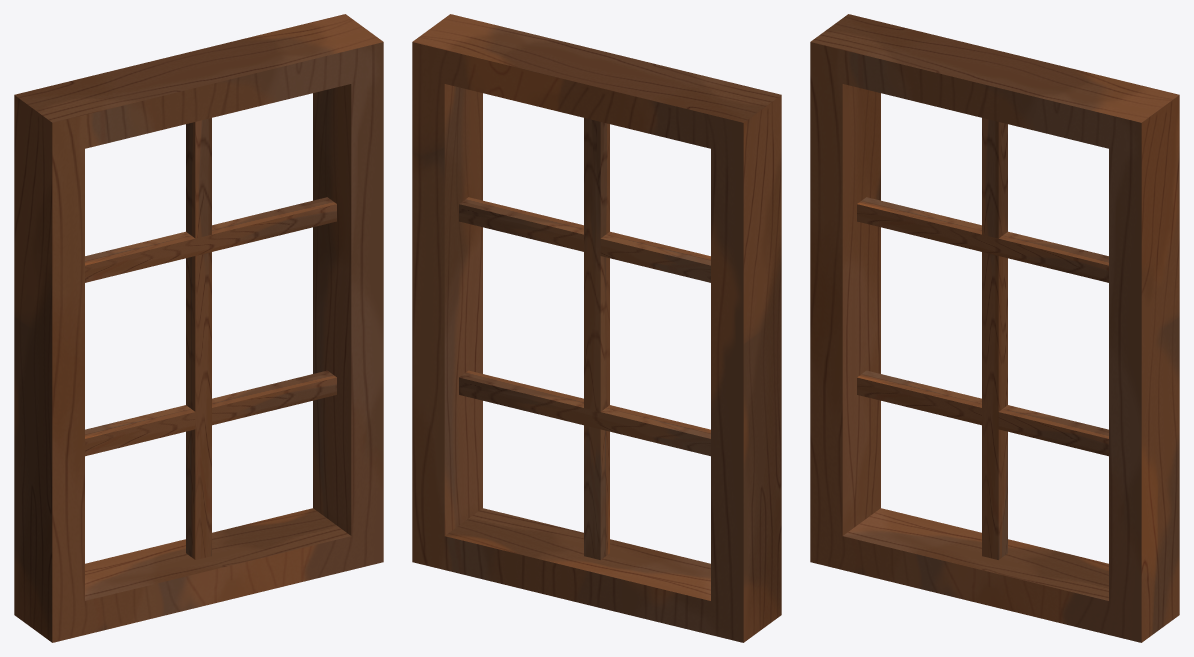
The model's file is Window Frame 3.fbx.
3 renders of one model, left to right at view 1: azimuth 30°, elevation 25°; view 2: azimuth 150°, elevation 25°; view 3: azimuth 330°, elevation 25°, orthographic.
Visible parts, largest first — view 1: Window Frame; view 2: Window Frame; view 3: Window Frame.
Boxes of the visible parts, x1,y1,x2,y2 form: Window Frame: (14, 14, 383, 642); Window Frame: (412, 14, 781, 642); Window Frame: (810, 14, 1179, 642).
Size of the model in its own units: 40 by 60 by 8.
